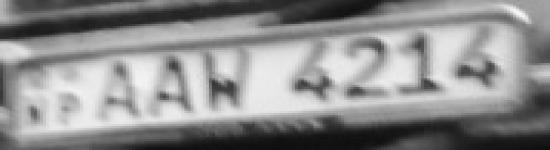1: (392, 29, 452, 98)
2: (337, 33, 393, 102)
4: (453, 21, 507, 93), (285, 38, 338, 104)
A: (143, 54, 199, 118), (88, 59, 144, 120)
P: (47, 88, 85, 126)
W: (199, 47, 257, 110), (22, 93, 50, 126)
